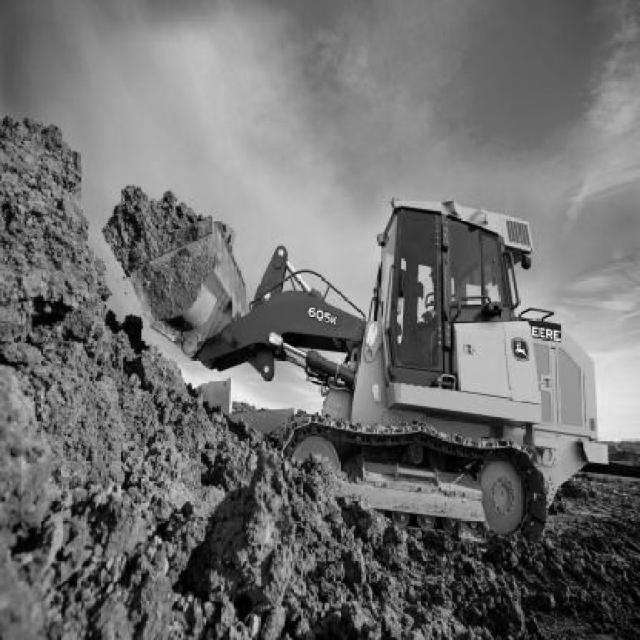Construction Equipment: (129, 199, 611, 538)
